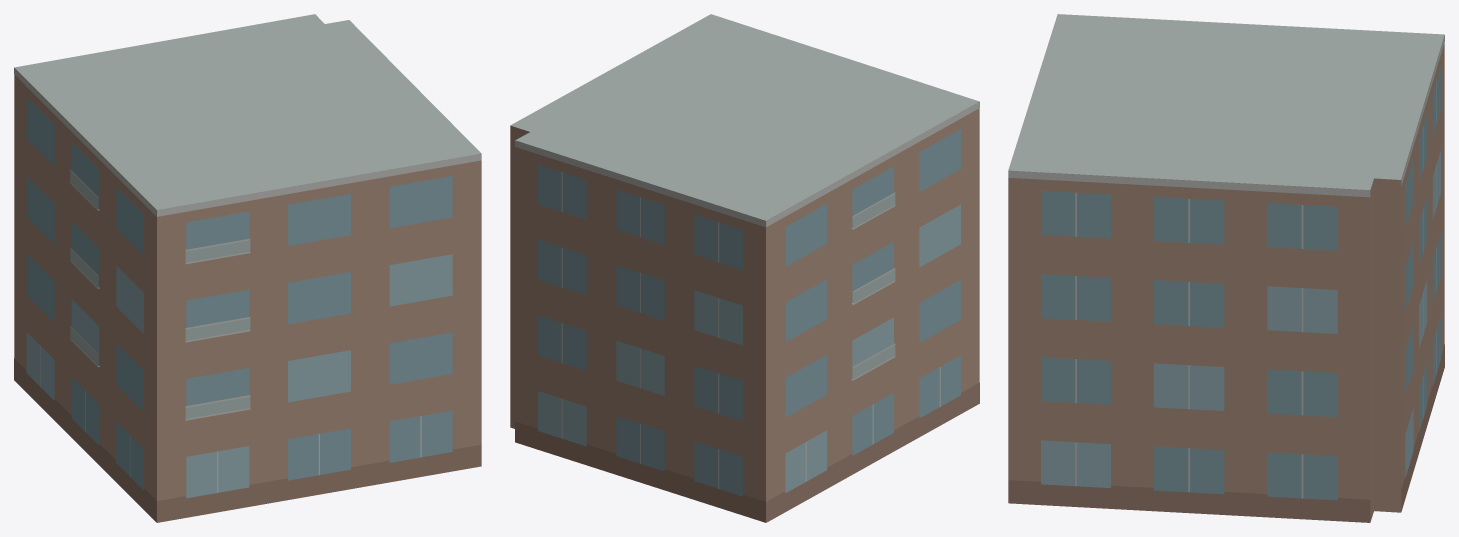
File: survey-upis-32911938.glb
3 renders of one model, left to right at view 1: azimuth 30°, elevation 25°; view 2: azimuth 150°, elevation 25°; view 3: azimuth 270°, elevation 25°, orthographic. The views are drawn at different scales.
Parts seen in each view (by area): view 1: survey-upis-32911938.tmp; view 2: survey-upis-32911938.tmp; view 3: survey-upis-32911938.tmp.
Boxes of the visible parts, x1,y1,x2,y2 form: survey-upis-32911938.tmp: (14, 14, 481, 522); survey-upis-32911938.tmp: (510, 14, 979, 522); survey-upis-32911938.tmp: (1008, 14, 1444, 522).
Bounding box in the file's own units: 12.84 × 11.3 × 13.45.
